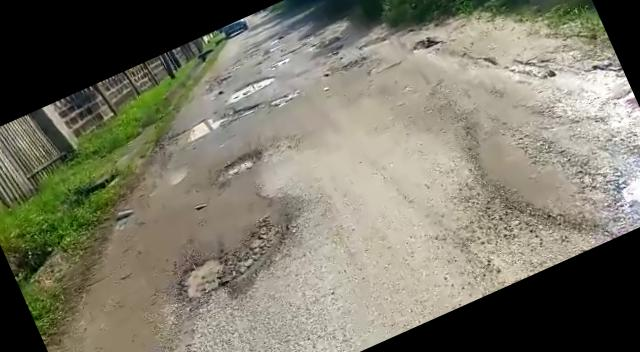pothole: (155, 198, 319, 320), (178, 94, 266, 146), (208, 142, 271, 186), (222, 70, 280, 103), (614, 161, 640, 229), (264, 85, 301, 110)
